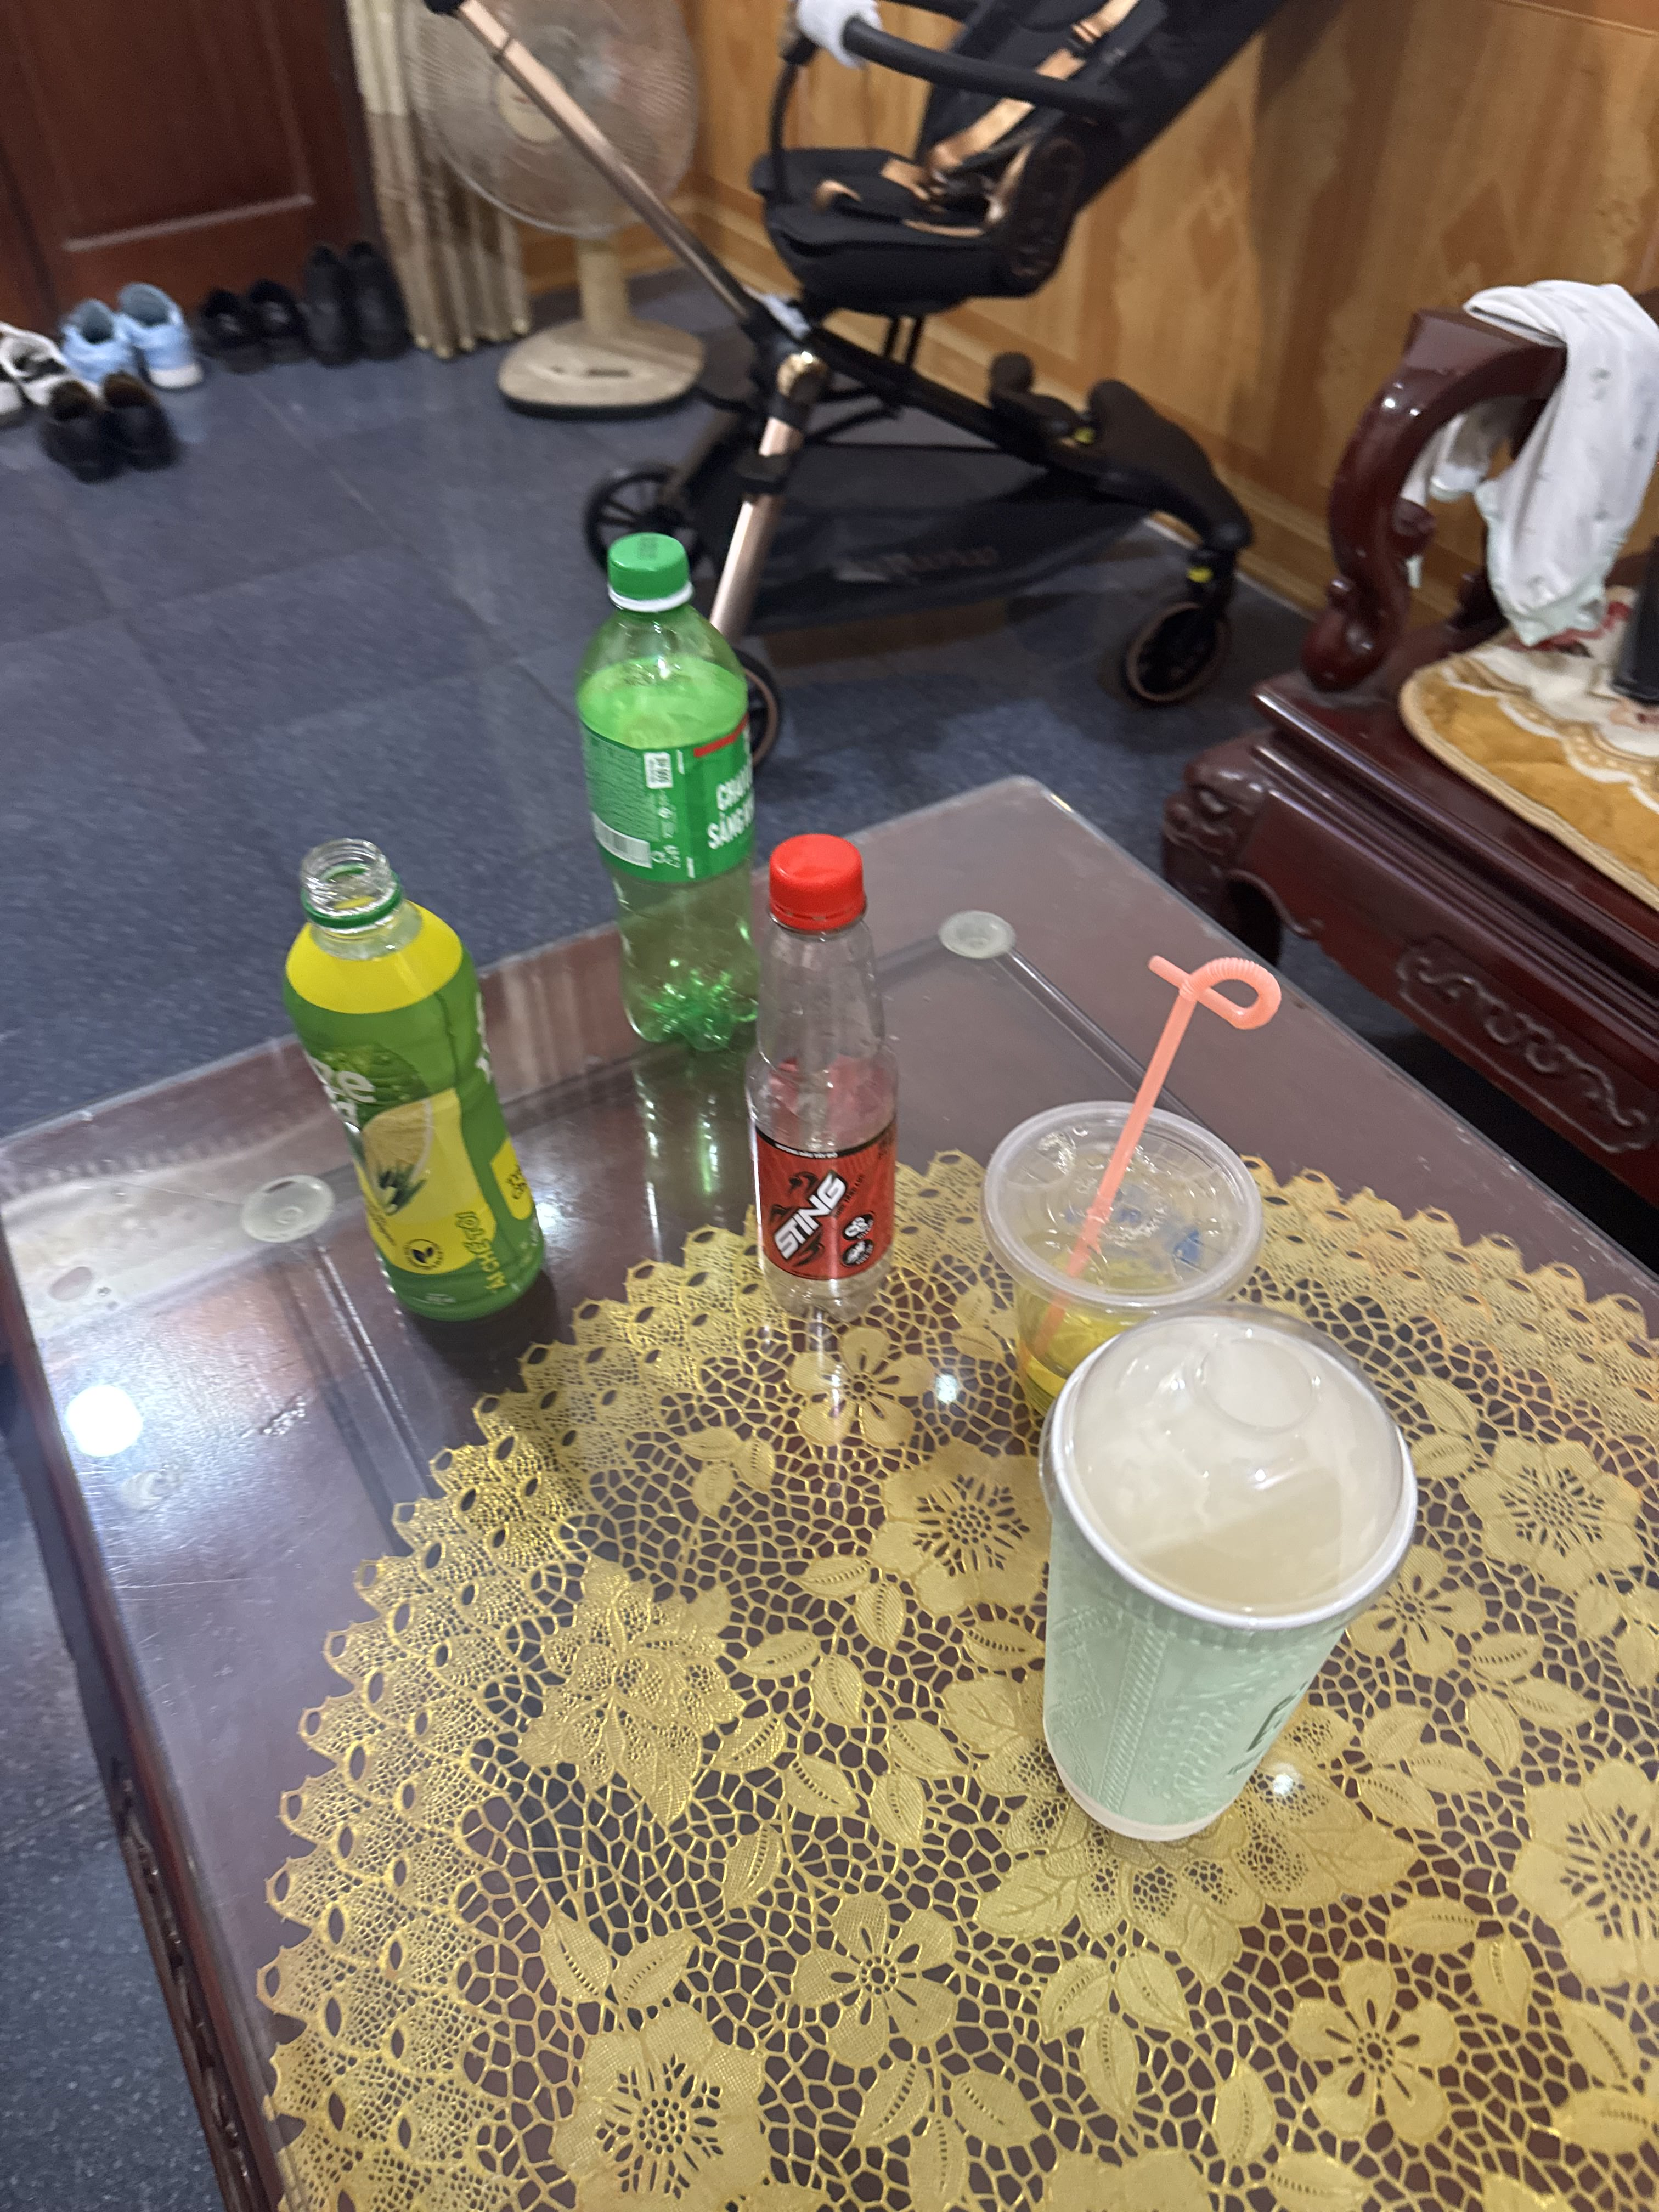bottle: (253, 810, 586, 1336), (530, 477, 809, 1052), (704, 805, 943, 1355)
cup: (986, 1270, 1492, 1888), (939, 1059, 1312, 1376)
